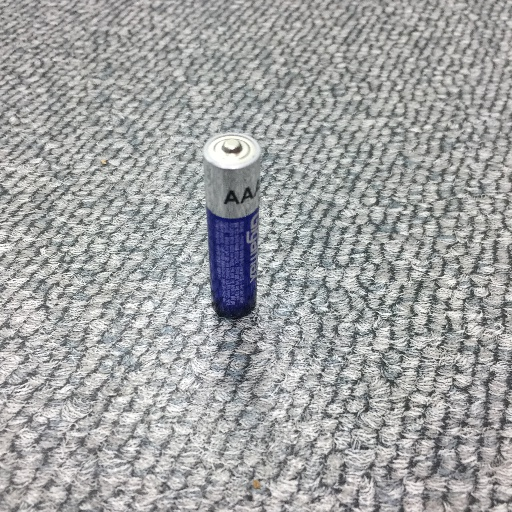Battery_0: (199, 123, 266, 328)
